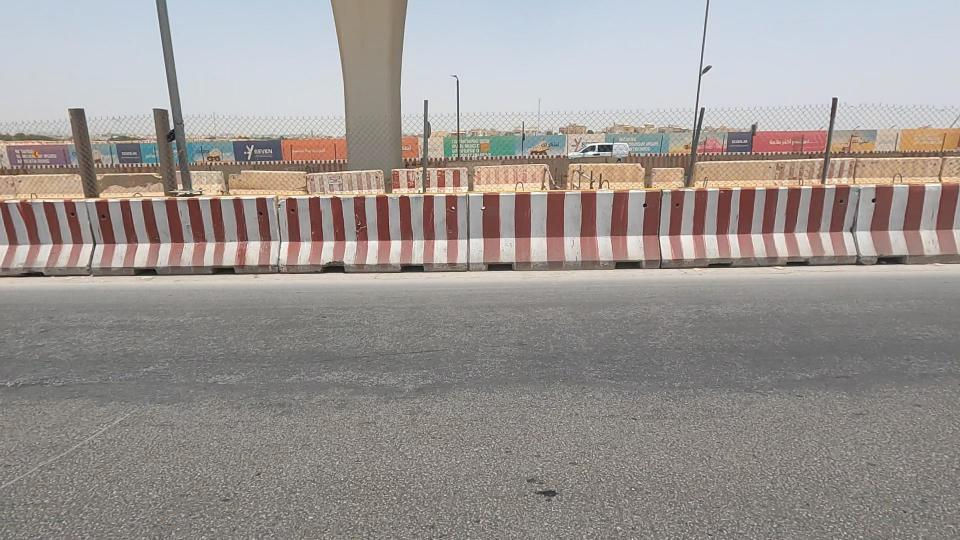CONSTRUCTION_ROAD: (24, 121, 459, 312), (473, 128, 760, 311), (671, 130, 960, 298), (278, 139, 557, 293), (508, 109, 890, 195), (151, 102, 418, 218), (334, 115, 626, 208)
